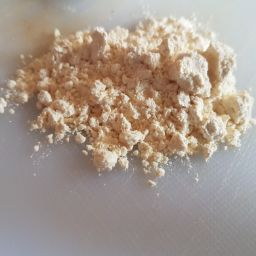Gram/ Flour: (2, 20, 190, 195), (79, 11, 256, 195), (98, 10, 256, 147)
